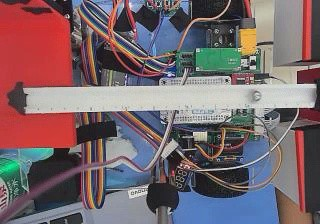ironball: (250, 91, 260, 100)
